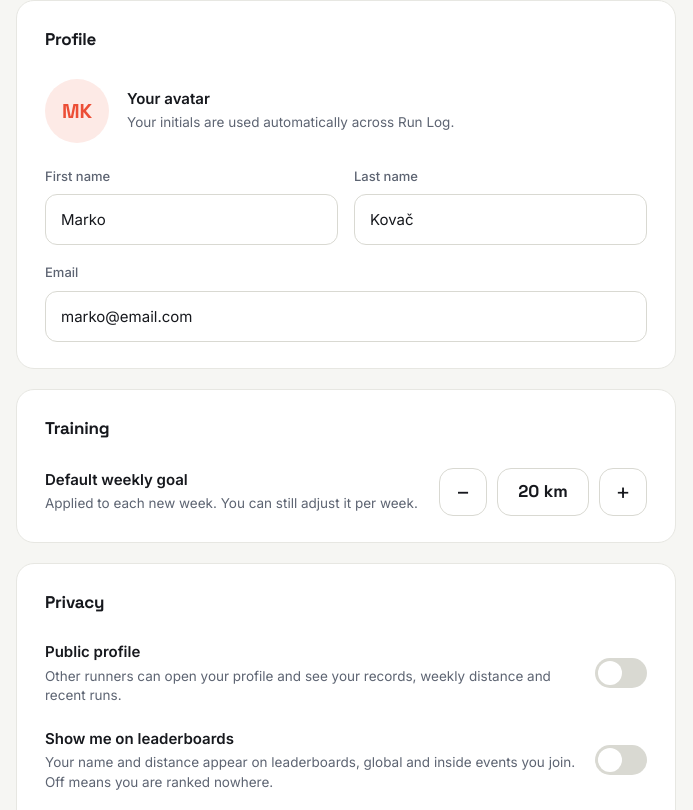
Scenario: Settings training card (RUN-38) › steps the value up and down by 1 km (AC2)
Click the button named "Increase default weekly goal" at [623, 492], box [599, 468, 647, 516]
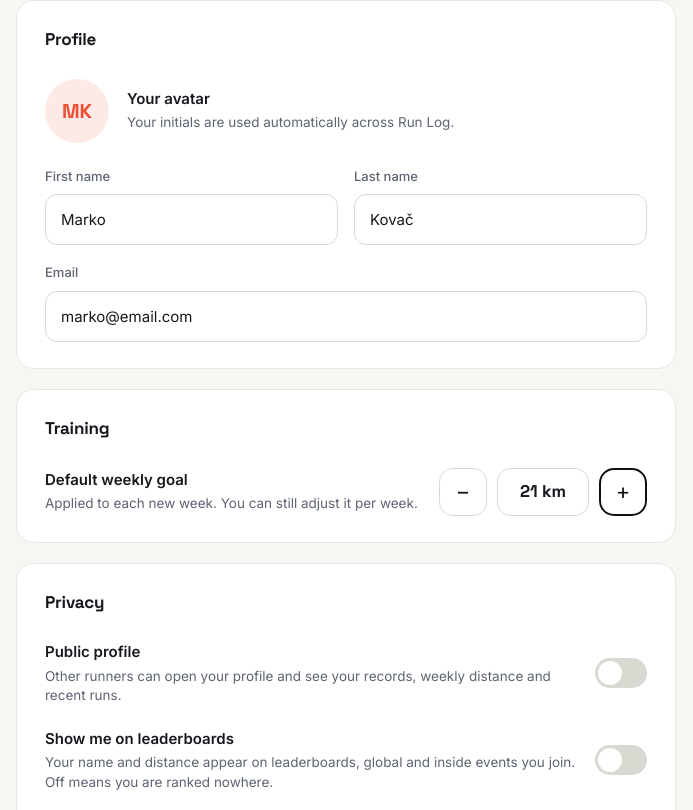
Click the button named "Increase default weekly goal" at [623, 492], box [599, 468, 647, 516]
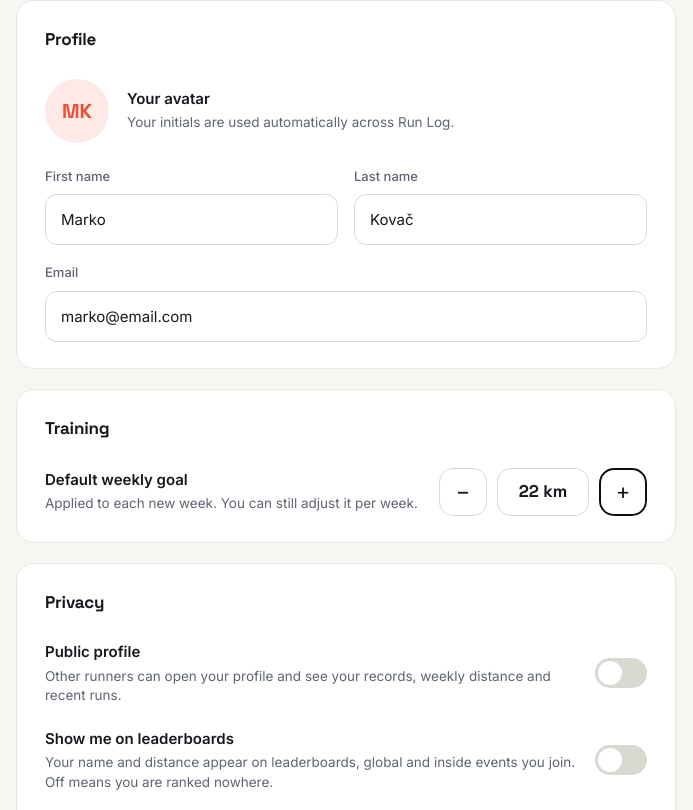
Expected: the text "22 km" is shown, [497, 468, 589, 516]
Click the button named "Decrease default weekly goal" at [463, 492], box [439, 468, 487, 516]
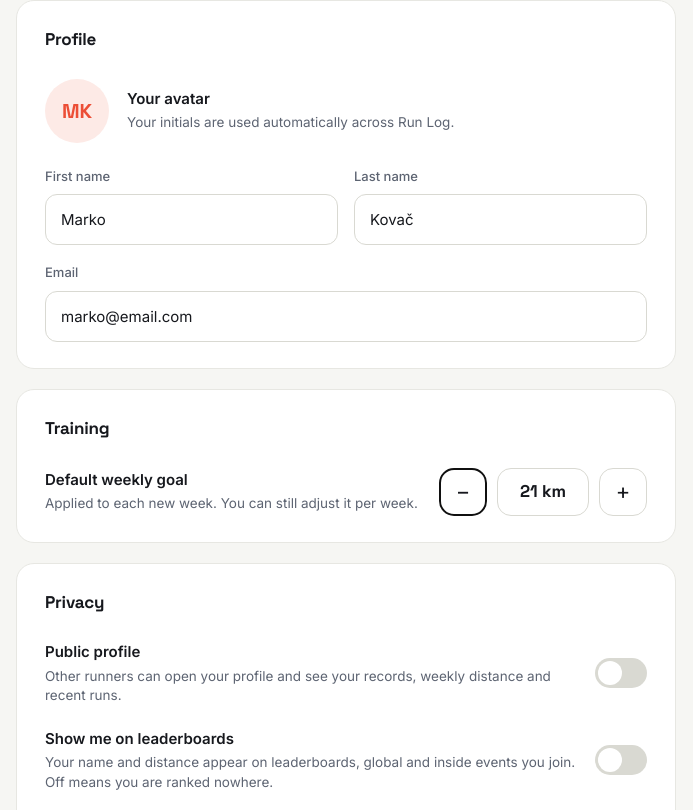
Expected: the text "21 km" is shown, [497, 468, 589, 516]
